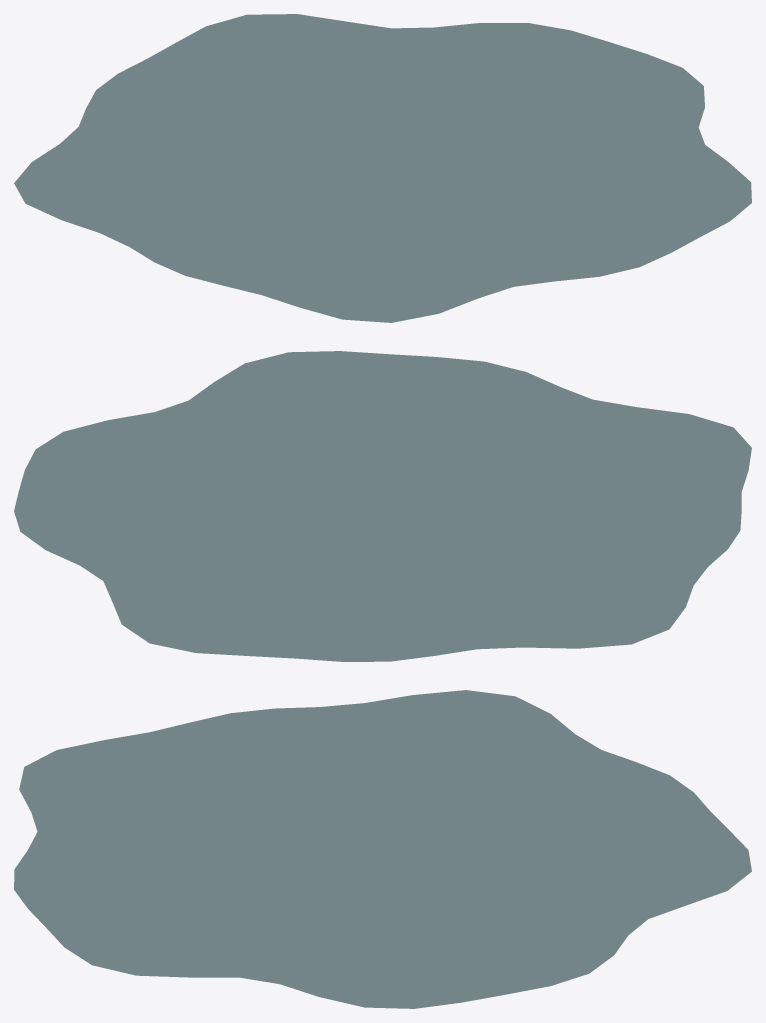
The model's file is SM_Puddle.fbx.
The picture shows the model from 3 angles, top to bottom: view 1: azimuth 30°, elevation 25°; view 2: azimuth 150°, elevation 25°; view 3: azimuth 270°, elevation 25°; orthographic projection. The views are drawn at different scales.
Parts seen in each view (by area): view 1: SM_Puddle; view 2: SM_Puddle; view 3: SM_Puddle.
Part boxes in pixels (x1=…): SM_Puddle: x1=14, y1=14, x2=751, y2=322; SM_Puddle: x1=14, y1=351, x2=751, y2=661; SM_Puddle: x1=14, y1=690, x2=751, y2=1008.
Size of the model in its own units: 209 by 205 by 0.
